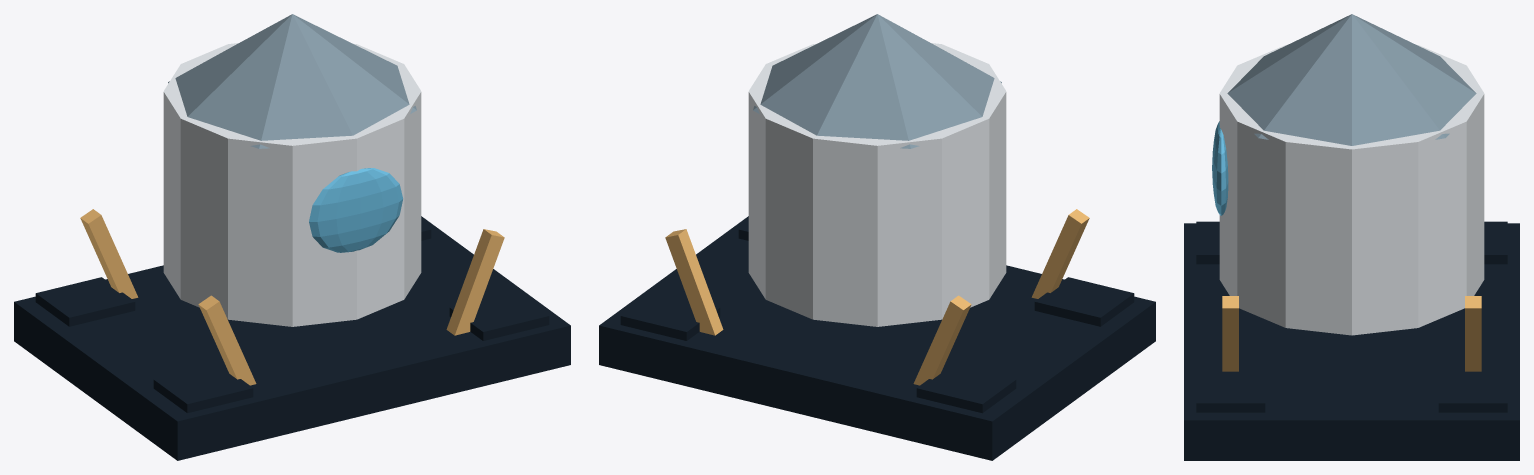
Rendered from station-lander.glb.
3 renders of one model, left to right at view 1: azimuth 30°, elevation 25°; view 2: azimuth 150°, elevation 25°; view 3: azimuth 270°, elevation 25°, orthographic. The views are drawn at different scales.
Visible parts, largest first — view 1: foundation, lander-body, roof, footpad (×3), landing-leg (×3), window; view 2: foundation, lander-body, roof, footpad (×3), landing-leg (×3); view 3: lander-body, foundation, roof, footpad (×4), landing-leg (×2), window.
Boxes of the visible parts, left/top/right/bottom form: foundation: left=14, top=216, right=570, bottom=460; lander-body: left=163, top=43, right=421, bottom=326; roof: left=168, top=14, right=416, bottom=148; footpad (×3): left=35, top=277, right=549, bottom=413; landing-leg (×3): left=80, top=209, right=504, bottom=385; window: left=309, top=168, right=403, bottom=252; foundation: left=599, top=216, right=1155, bottom=460; lander-body: left=748, top=43, right=1006, bottom=326; roof: left=753, top=14, right=1001, bottom=148; footpad (×3): left=620, top=277, right=1134, bottom=413; landing-leg (×3): left=665, top=209, right=1089, bottom=385; lander-body: left=1219, top=45, right=1484, bottom=335; foundation: left=1184, top=223, right=1519, bottom=460; roof: left=1227, top=14, right=1476, bottom=145; footpad (×4): left=1196, top=221, right=1507, bottom=412; landing-leg (×2): left=1222, top=296, right=1481, bottom=371; window: left=1212, top=121, right=1228, bottom=215.
Size of the model in its own units: 2.5 by 2.06 by 1.8.
